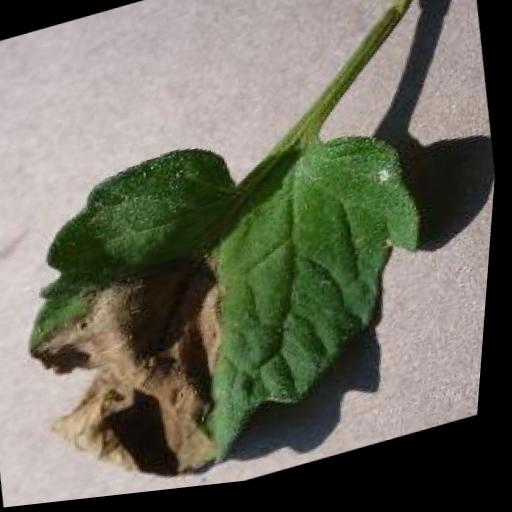Late Blight: (0, 90, 463, 510)
